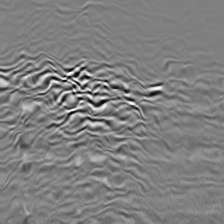cavities: (32, 64, 146, 145)
